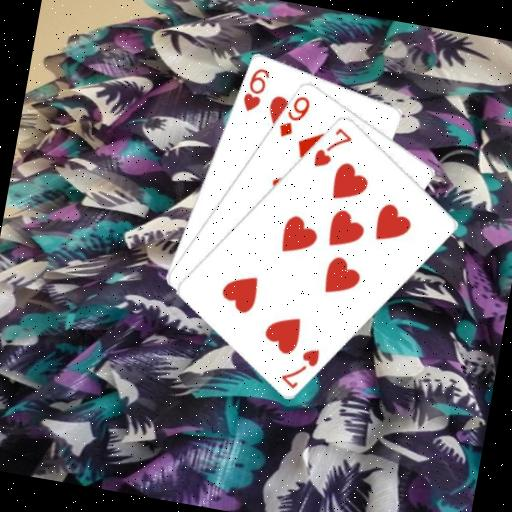6H: (237, 61, 272, 115)
7H: (276, 339, 323, 394), (309, 120, 356, 174)
9D: (274, 89, 313, 142)
